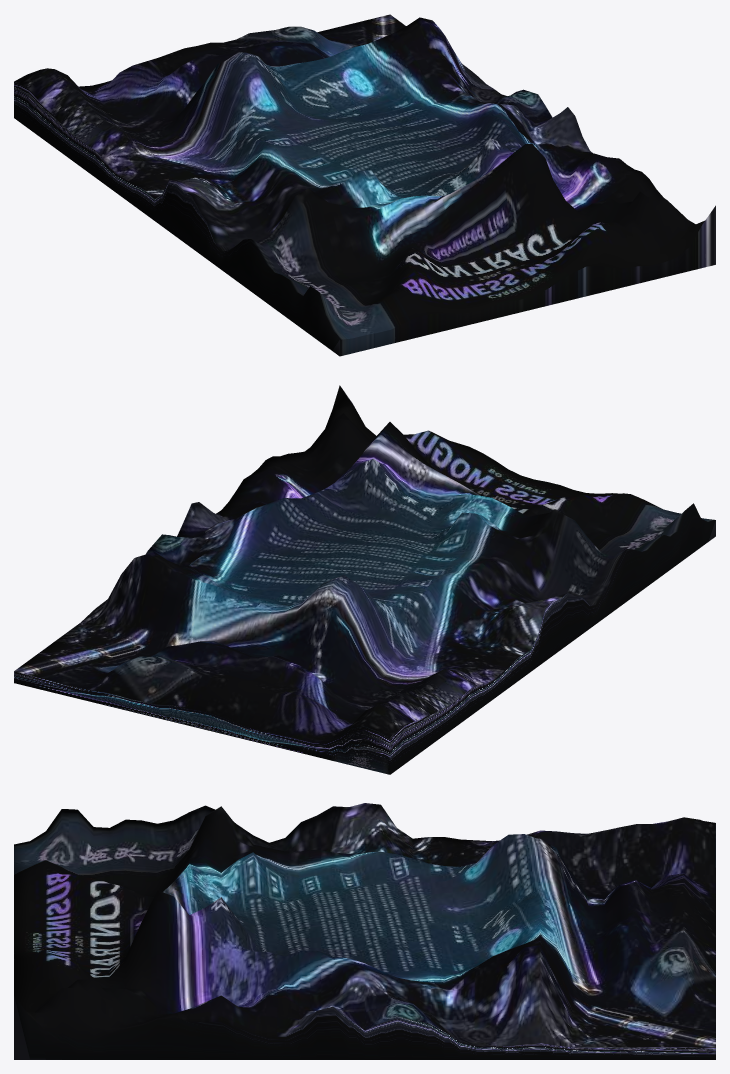
Rendered from CAREER_08_Tool_05_Contract.glb.
The picture shows the model from 3 angles, top to bottom: view 1: azimuth 30°, elevation 25°; view 2: azimuth 150°, elevation 25°; view 3: azimuth 270°, elevation 25°; orthographic projection. The views are drawn at different scales.
Parts seen in each view (by area): view 1: CAREER_08_Tool_05_Contract; view 2: CAREER_08_Tool_05_Contract; view 3: CAREER_08_Tool_05_Contract.
Boxes of the visible parts, <box> form: CAREER_08_Tool_05_Contract: <box>14,14,715,356</box>; CAREER_08_Tool_05_Contract: <box>14,385,715,774</box>; CAREER_08_Tool_05_Contract: <box>14,803,715,1059</box>.
Bounding box in the file's own units: 2 × 0.51 × 3.
1 material, 1 textured.
